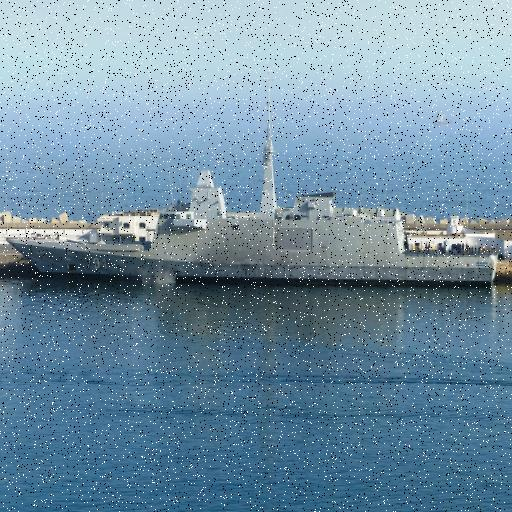Fragata: (1, 74, 503, 298)
